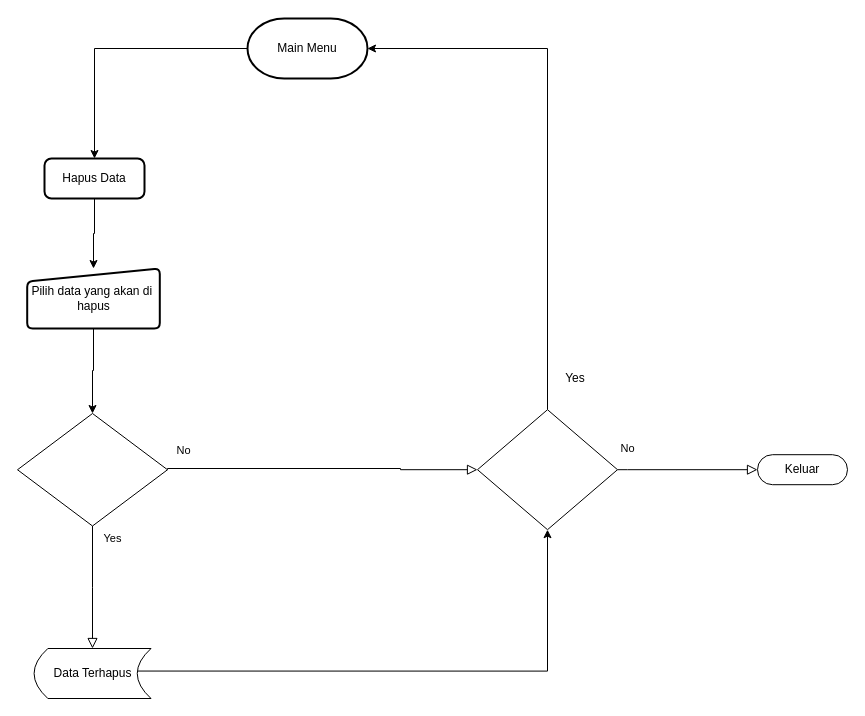
This 865x716 diagram has some shape labels left out. Here are the shapes that lost their labels. From the top down, the centre of each, then its label:
At pixel 92 469: "Hapus ?".
At pixel 547 469: "Ingin Melanjutkan ?".
